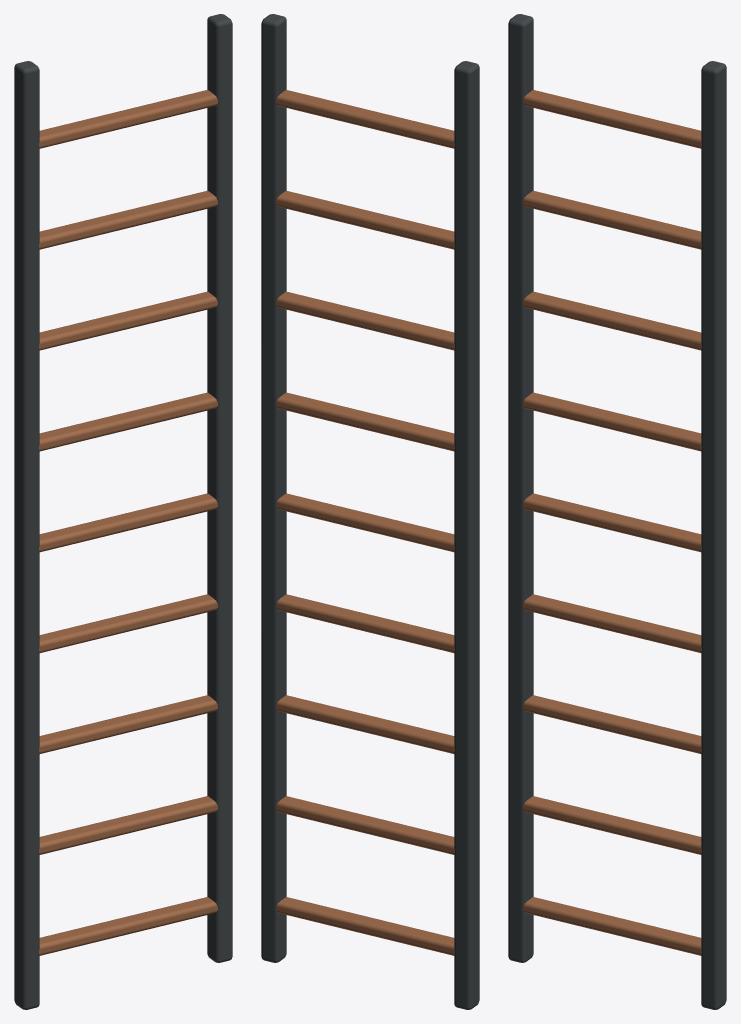
The model's file is undercity-sewers-and-thieves-den-iron-ladder-05484ab4__27203.glb.
The picture shows the model from 3 angles, left to right: view 1: azimuth 30°, elevation 25°; view 2: azimuth 150°, elevation 25°; view 3: azimuth 330°, elevation 25°; orthographic projection.
Parts seen in each view (by area): view 1: iron-ladder; view 2: iron-ladder; view 3: iron-ladder.
Boxes of the visible parts, x1,y1,x2,y2 form: iron-ladder: (14,14,232,1009); iron-ladder: (261,14,479,1009); iron-ladder: (508,14,726,1009).
Size of the model in its own units: 0.6549 by 2.8 by 0.0602.
